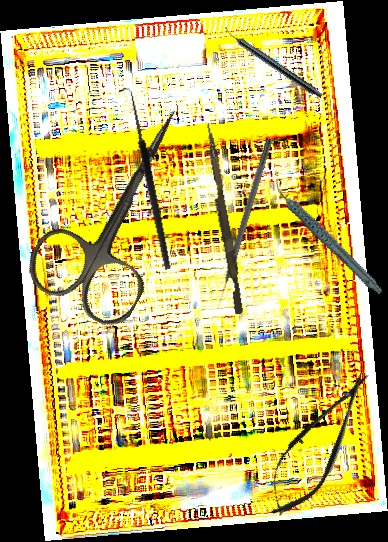Handpiece: (272, 162, 384, 312), (221, 24, 325, 101)
Hook Surgical: (116, 86, 174, 272), (213, 137, 274, 310)
Iris Scissors: (18, 83, 228, 335)
Micro Scissor: (251, 359, 387, 528)
Pusher: (198, 122, 249, 315)
